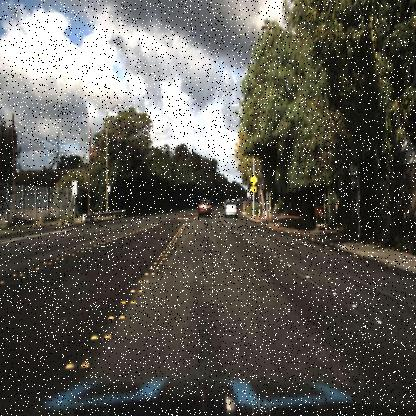car: (221, 198, 240, 219), (195, 196, 213, 218)
